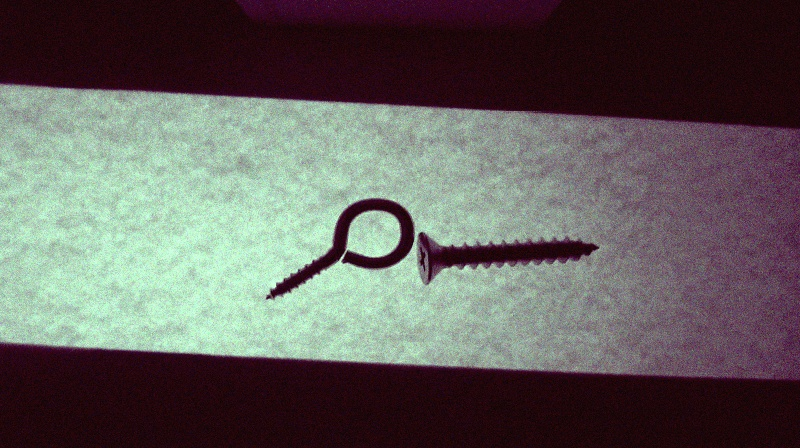O001: (264, 199, 416, 303)
S001: (415, 228, 601, 286)
